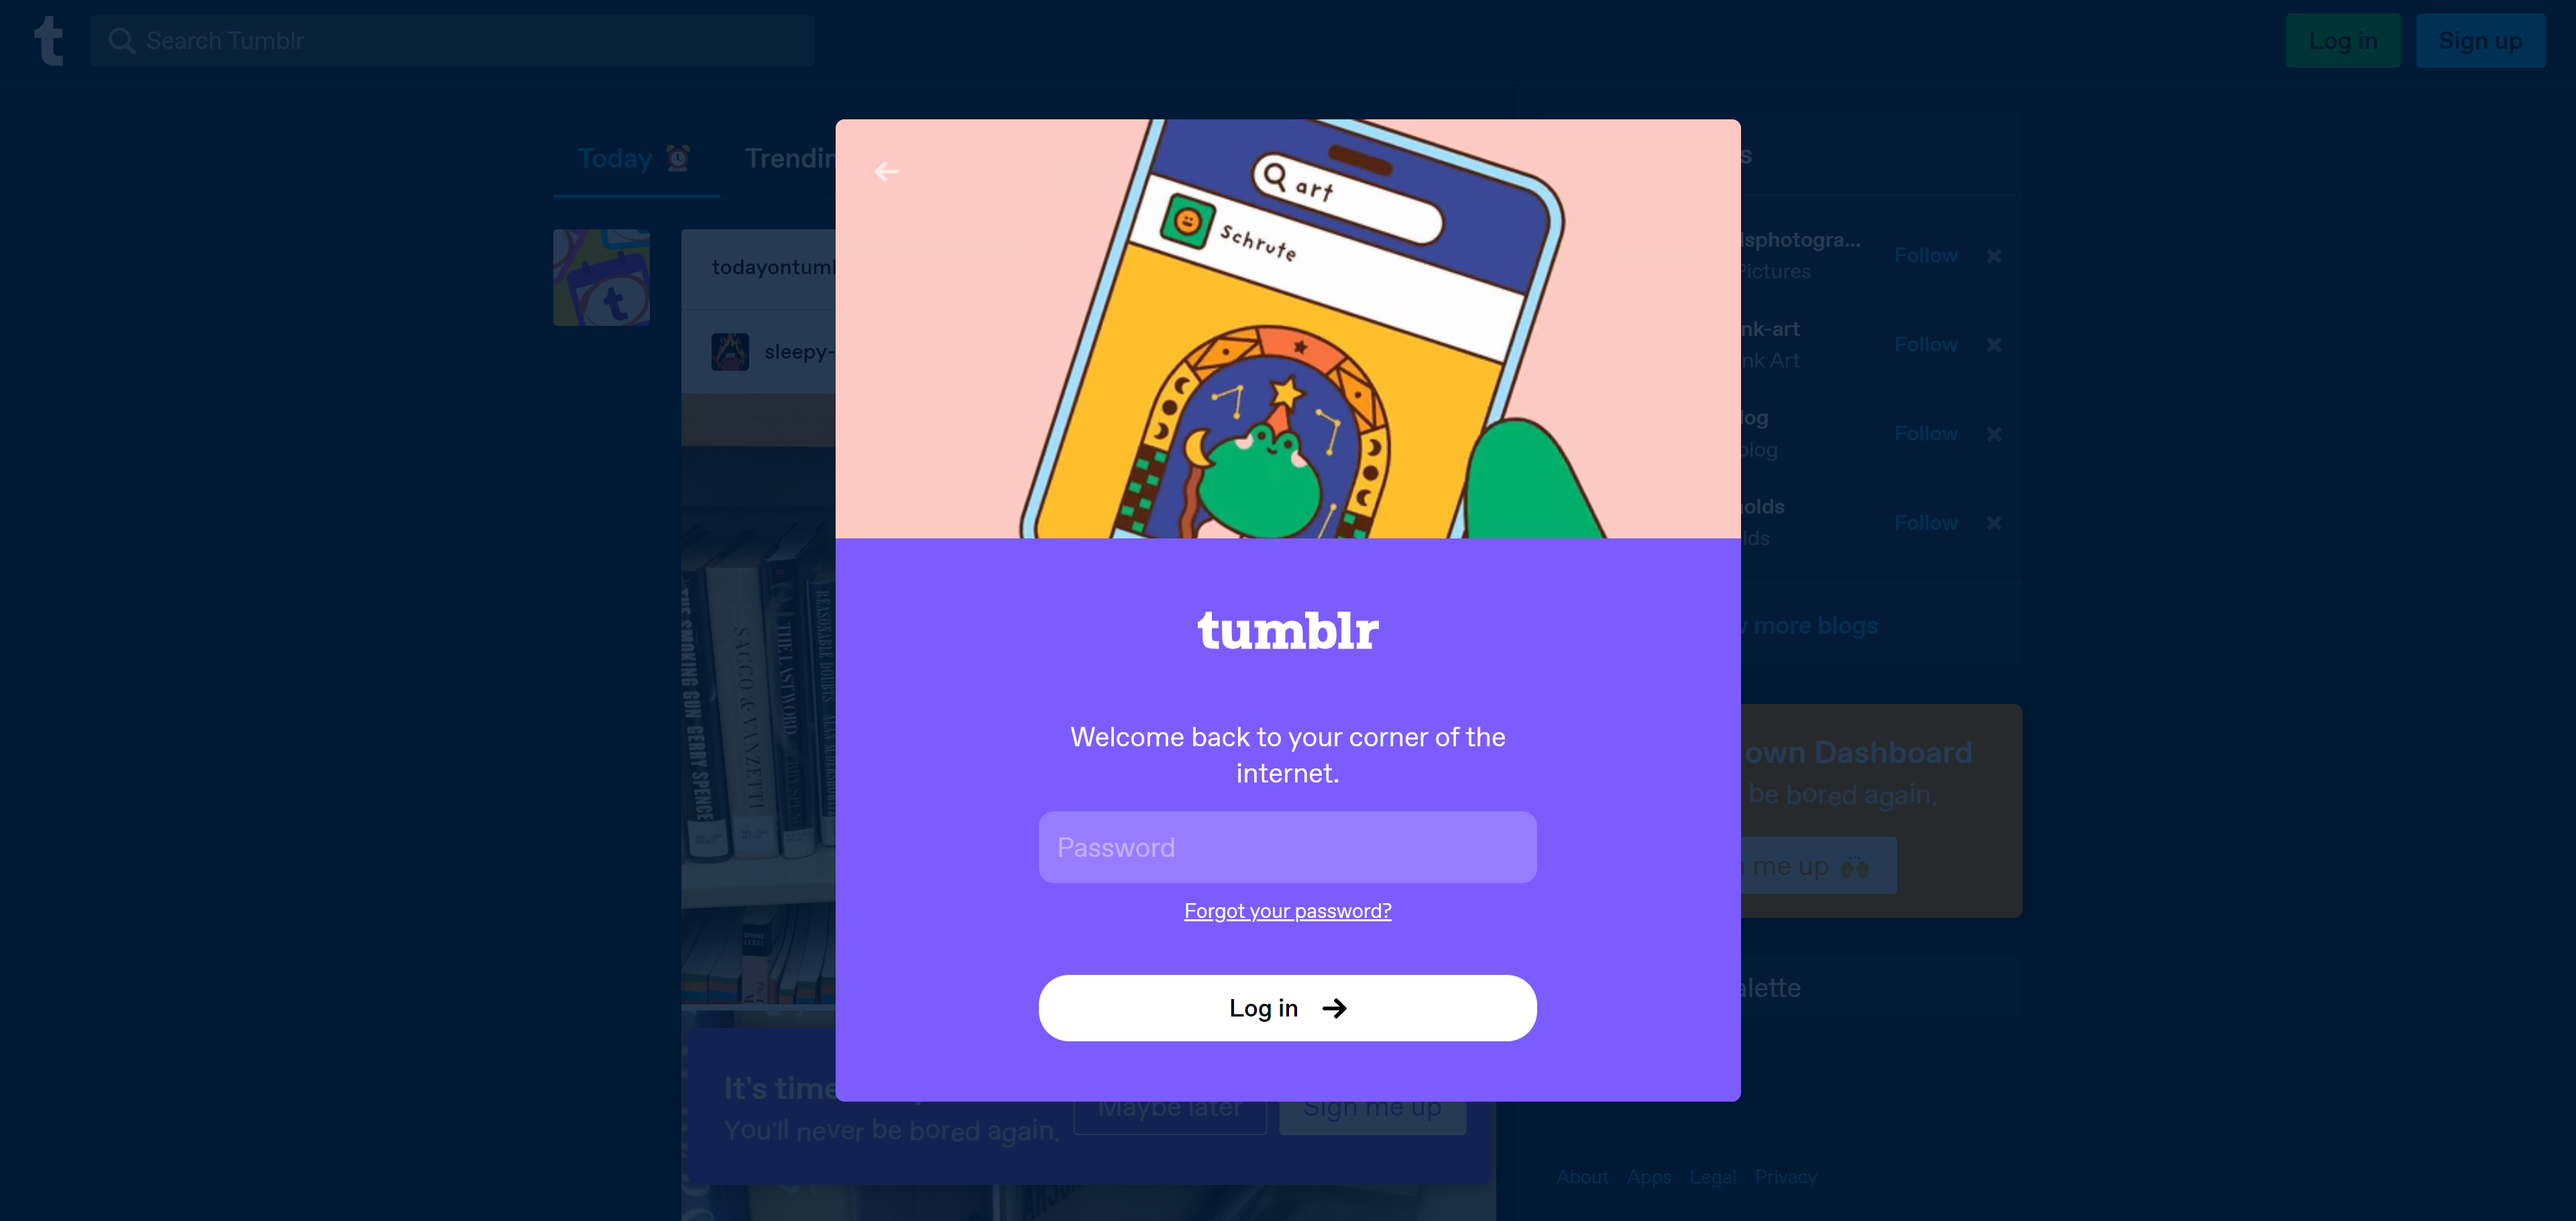login_button: (1038, 974, 1538, 1042)
login_form: (1033, 804, 1543, 1050)
